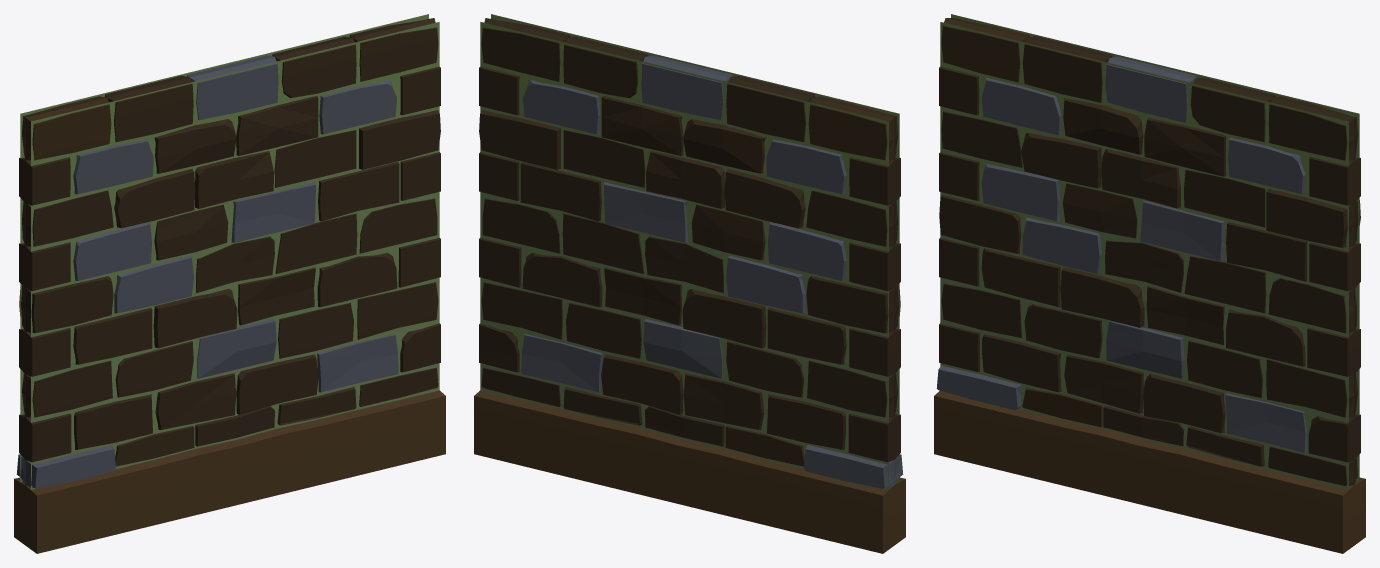
Rendered from Wall_23.fbx.
3 views of the same model, side by side, from view 1: azimuth 30°, elevation 25°; view 2: azimuth 150°, elevation 25°; view 3: azimuth 330°, elevation 25° (orthographic).
Parts seen in each view (by area): view 1: Wall_23; view 2: Wall_23; view 3: Wall_23.
Boxes of the visible parts, <box> form: Wall_23: <box>14,14,445,553</box>; Wall_23: <box>474,14,905,553</box>; Wall_23: <box>934,14,1365,553</box>.
Size of the model in its own units: 4 by 4 by 0.3879.
